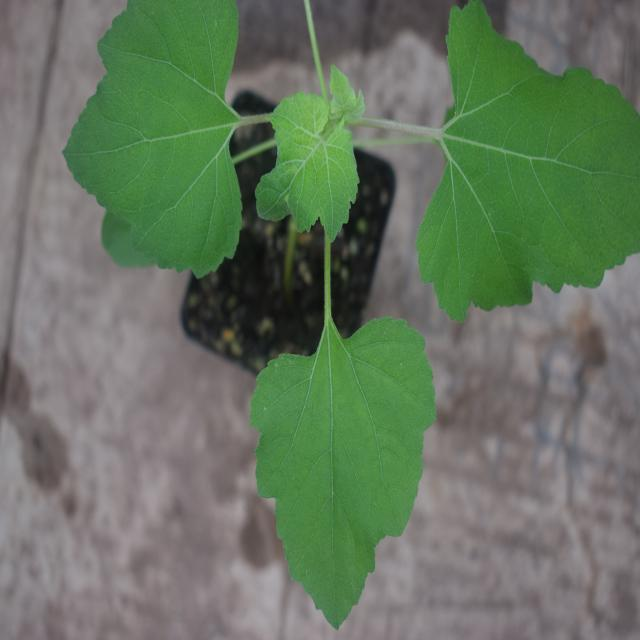cocklebur: (67, 28, 640, 550)
